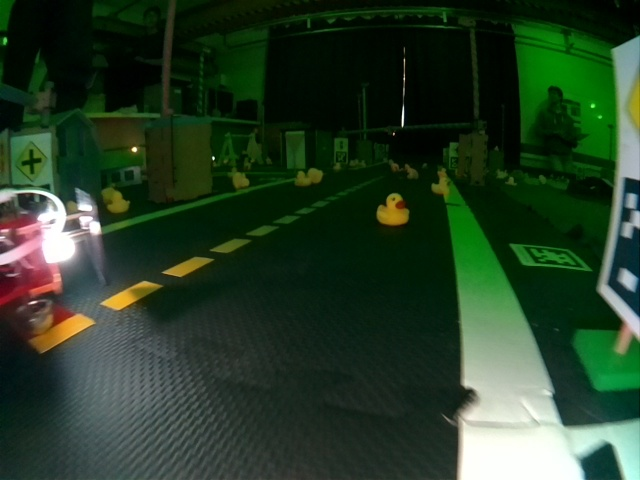Duckie: (376, 194, 407, 225), (107, 192, 129, 211), (432, 180, 449, 194), (233, 174, 247, 188), (308, 169, 322, 183), (295, 173, 307, 186), (410, 170, 419, 179)
Duckiebot: (0, 193, 107, 329)
Intersection sign: (12, 139, 51, 184)
QR code: (512, 245, 587, 269)
